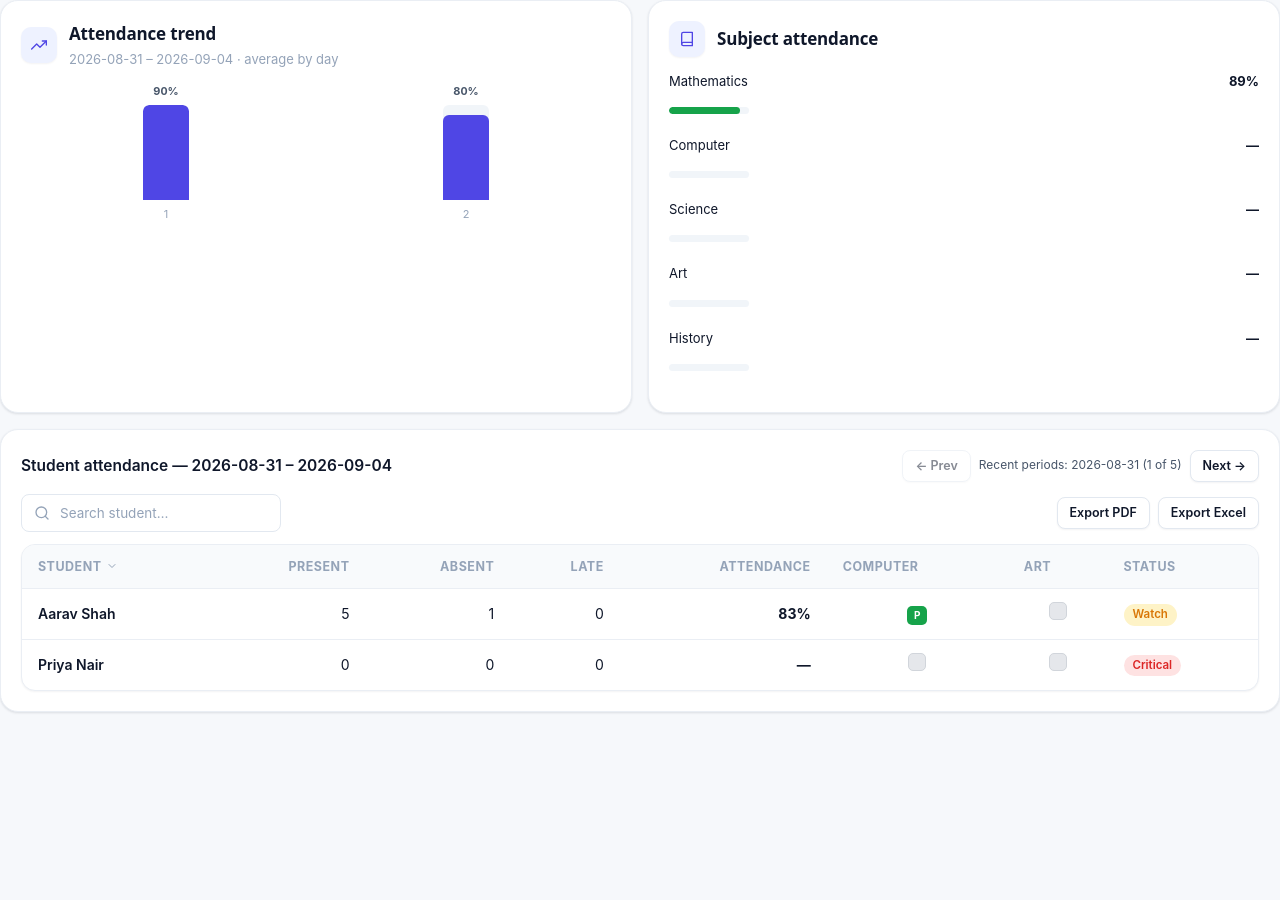
Scenario: ClassAttendanceOverview › fullRoster + multi-day range: subject columns change per day, stepping with Next/Prev
The image size is (1280, 900).
Expected: the text "Computer" in the row of "Present" is shown, x1=843 y1=559 x2=919 y2=574
Expected: the text "Art" in the row of "Present" is shown, x1=1024 y1=559 x2=1051 y2=574
Click the button "Next →".
click(1224, 466)  # box x1=1190 y1=450 x2=1259 y2=482
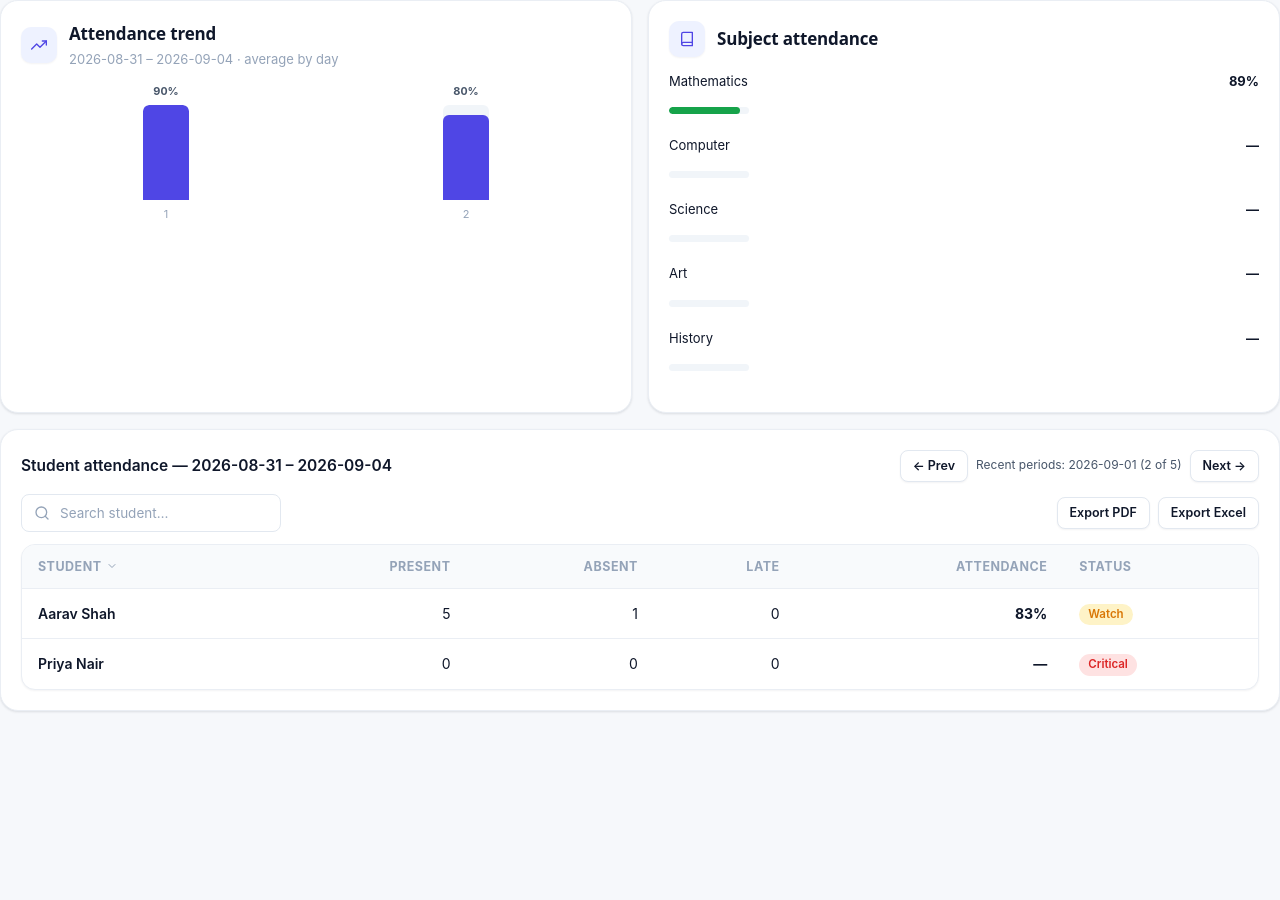
Click the button "Next →".
click(1224, 466)  # box x1=1190 y1=450 x2=1259 y2=482
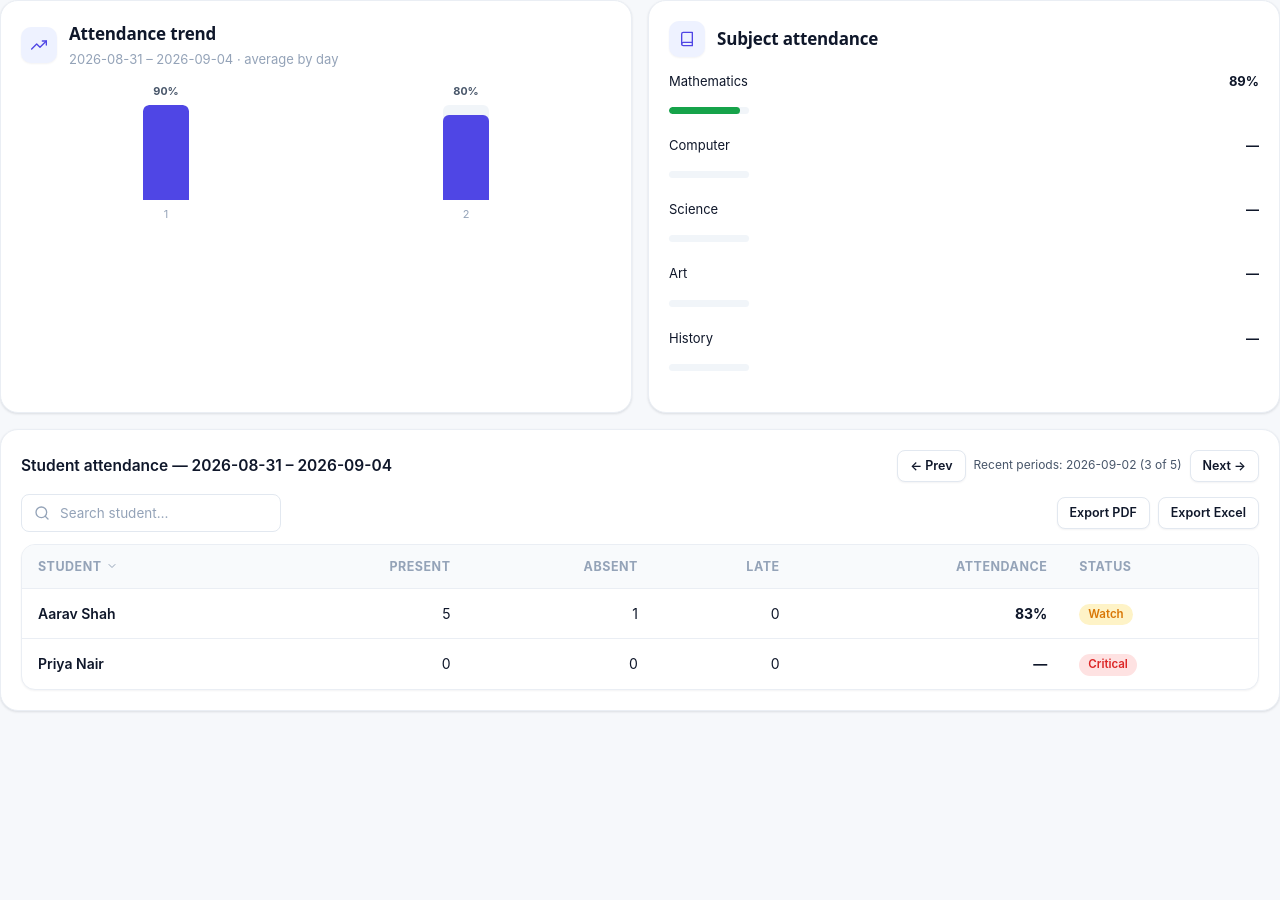
Click the button "Next →".
click(1224, 466)  # box x1=1190 y1=450 x2=1259 y2=482
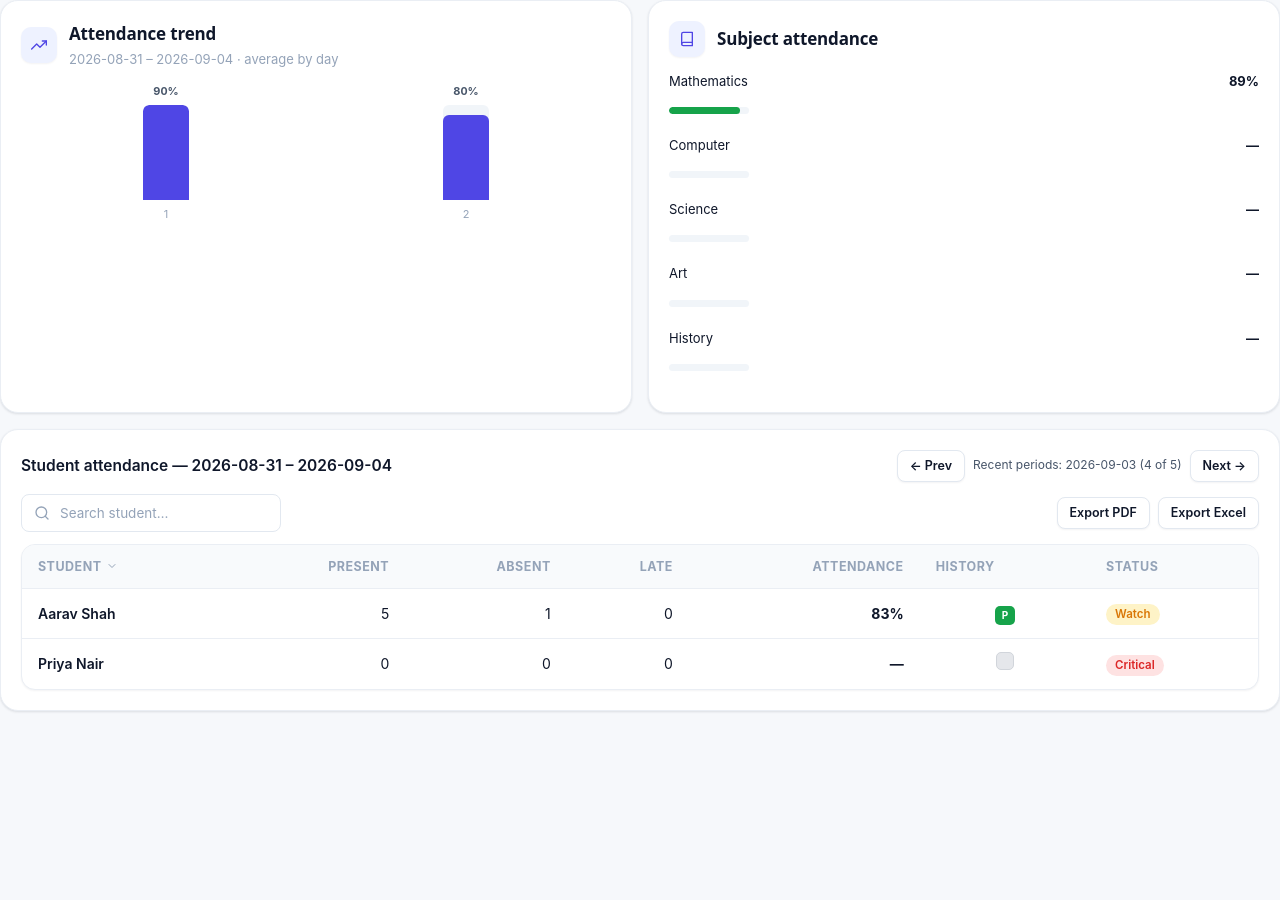
Click the button "Next →".
click(1224, 466)  # box x1=1190 y1=450 x2=1259 y2=482
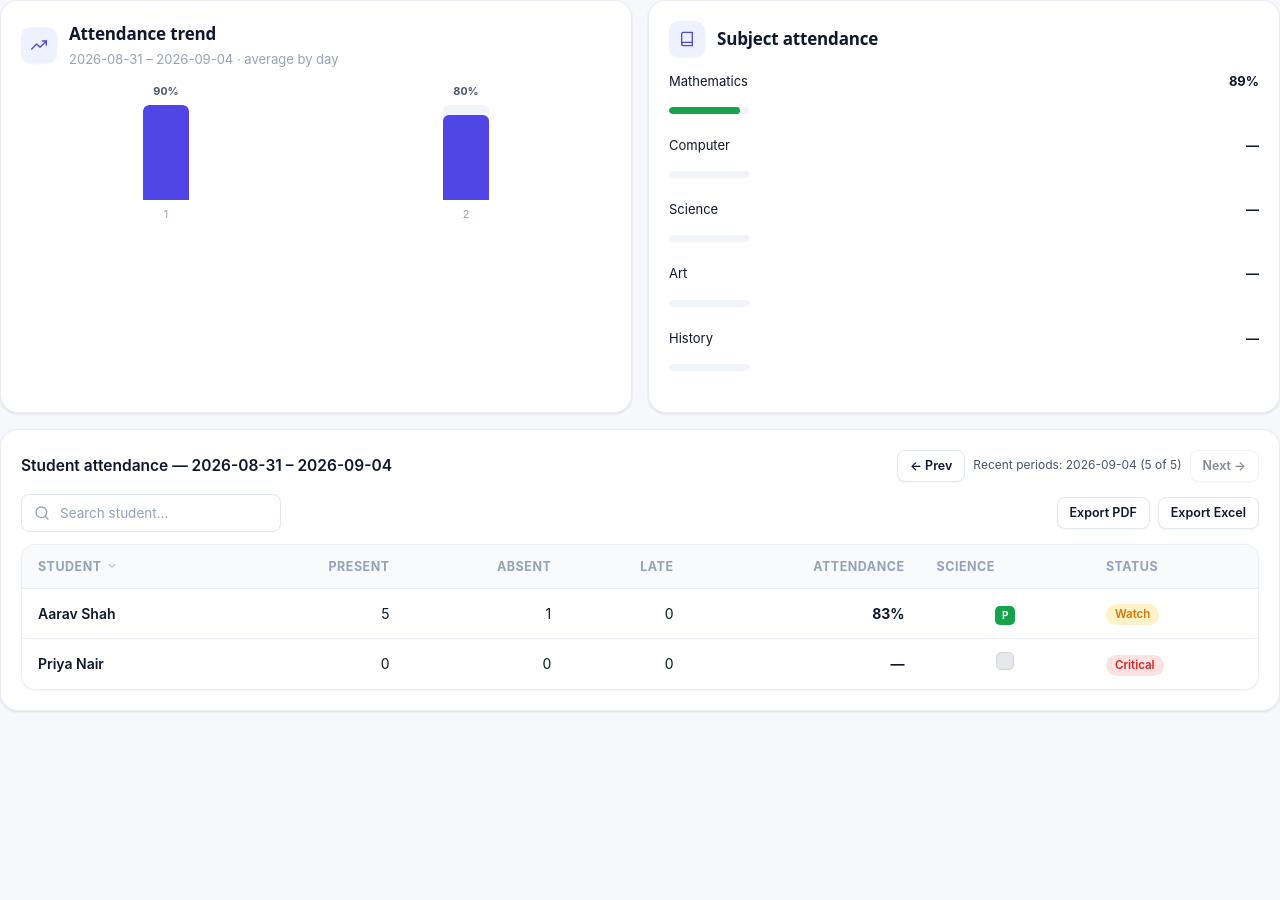
Now the text "P" is shown, box x1=995 y1=606 x2=1016 y2=625
Now the text "Recent periods: 2026-09-04 (5 of 5)" is shown, box x1=973 y1=456 x2=1182 y2=475
Now the text "Science" in the row of "Present" is shown, box x1=936 y1=559 x2=995 y2=574
